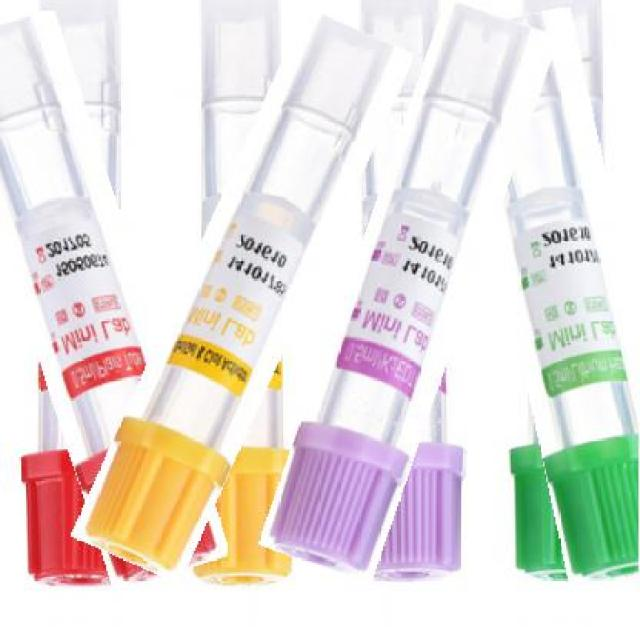Experimental-tube: (127, 6, 358, 585), (304, 1, 513, 582), (0, 11, 186, 591), (480, 9, 638, 594)
